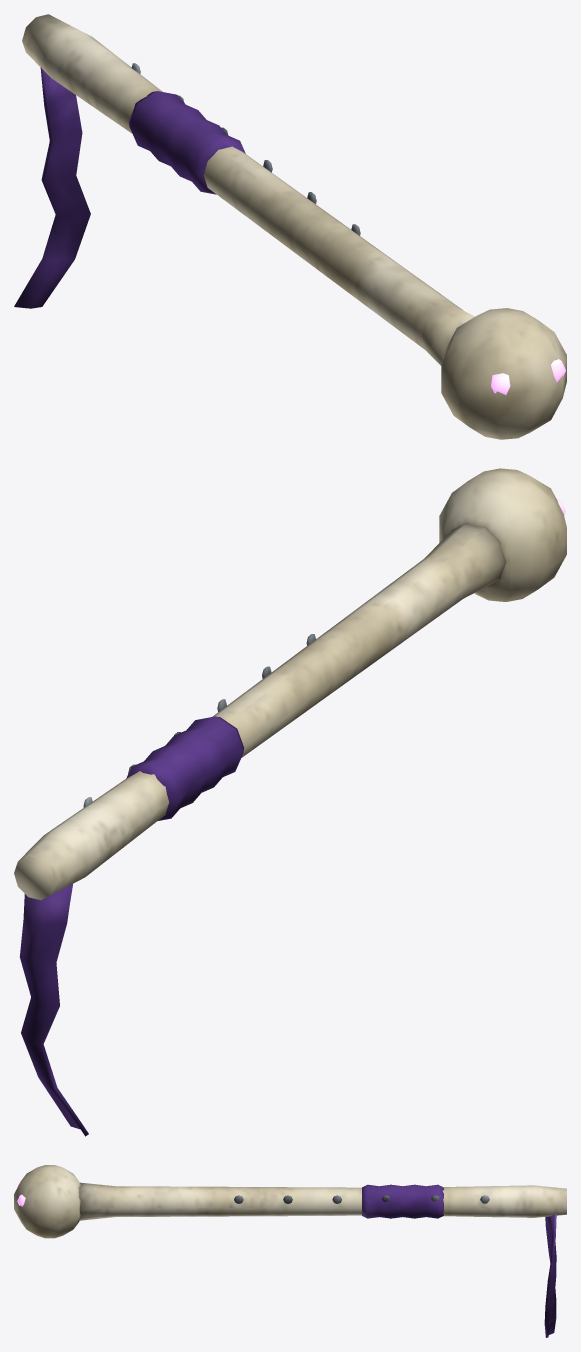
The model's file is BoneFlute.fbx.
The picture shows the model from 3 angles, top to bottom: view 1: azimuth 30°, elevation 25°; view 2: azimuth 150°, elevation 25°; view 3: azimuth 270°, elevation 25°; orthographic projection. The views are drawn at different scales.
Visible parts, largest first — view 1: BoneFlute; view 2: BoneFlute; view 3: BoneFlute.
Part boxes in pixels (x1=…): BoneFlute: x1=14, y1=14, x2=566, y2=439; BoneFlute: x1=14, y1=468, x2=566, y2=1136; BoneFlute: x1=14, y1=1165, x2=566, y2=1337.
Bounding box in the file's own units: 0.0834 × 0.2358 × 0.6739.
